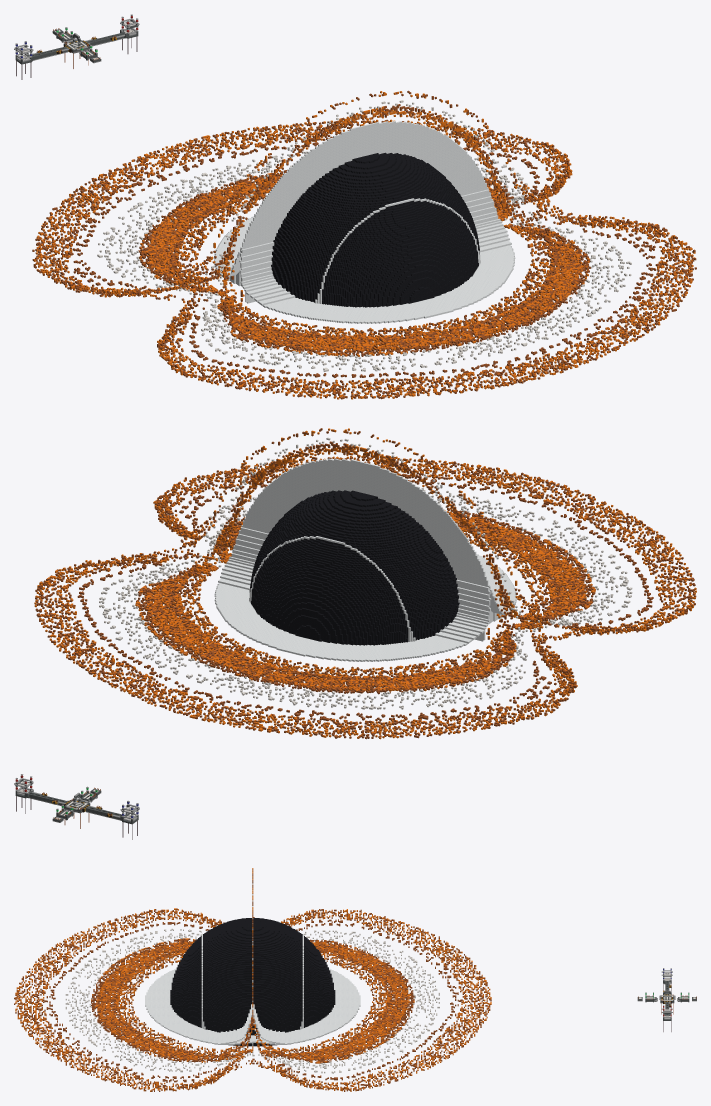
The model's file is minecraft.obj.
3 views of the same model, one above another, from view 1: azimuth 30°, elevation 25°; view 2: azimuth 150°, elevation 25°; view 3: azimuth 270°, elevation 25° (orthographic). The views are drawn at different scales.
Bounding box in the file's own units: 339 × 113 × 542.
